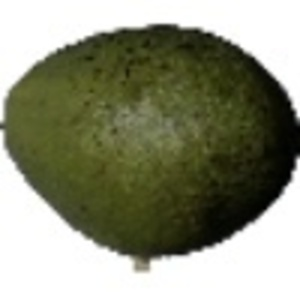abacate: (1, 15, 298, 263)
